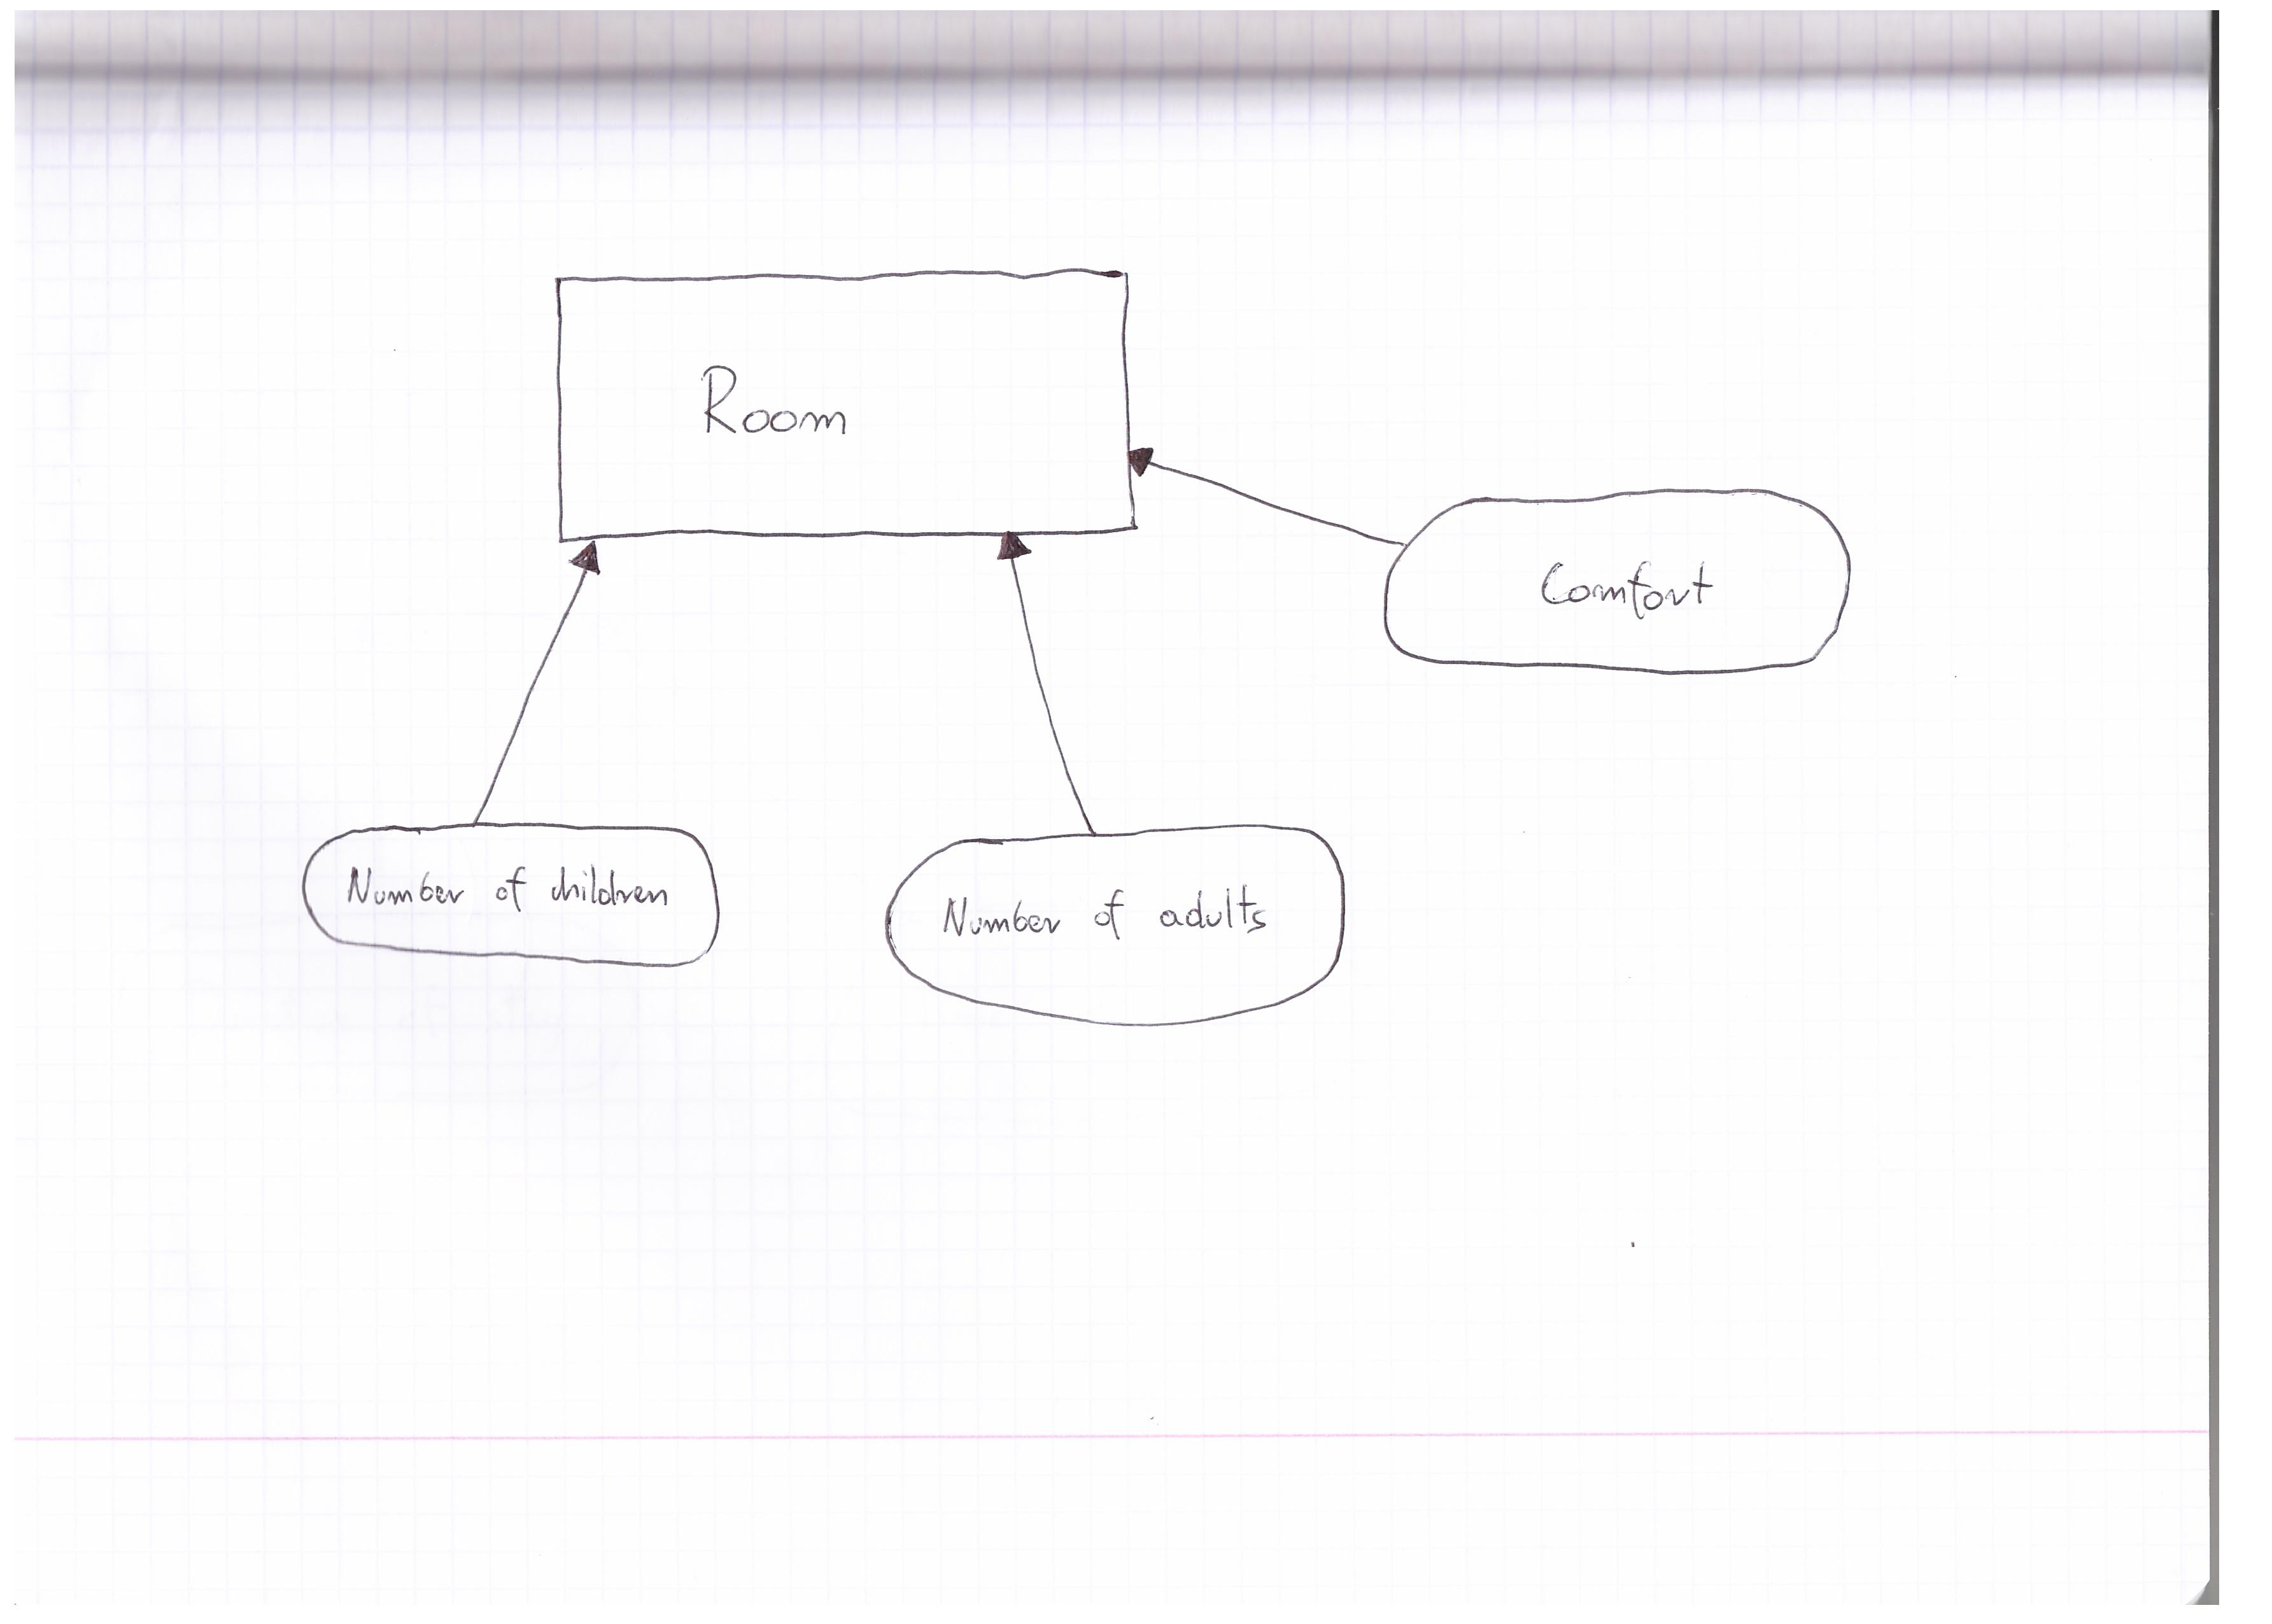arrow_information_requirement: (455, 536, 615, 828), (977, 524, 1109, 838), (1119, 438, 1416, 557)
node_decision: (541, 262, 1144, 541)
node_input_data: (859, 821, 1358, 1040), (1374, 478, 1870, 687), (295, 817, 734, 979)
text: (935, 866, 1276, 970), (336, 851, 685, 930), (675, 344, 879, 460), (1527, 540, 1733, 640)
